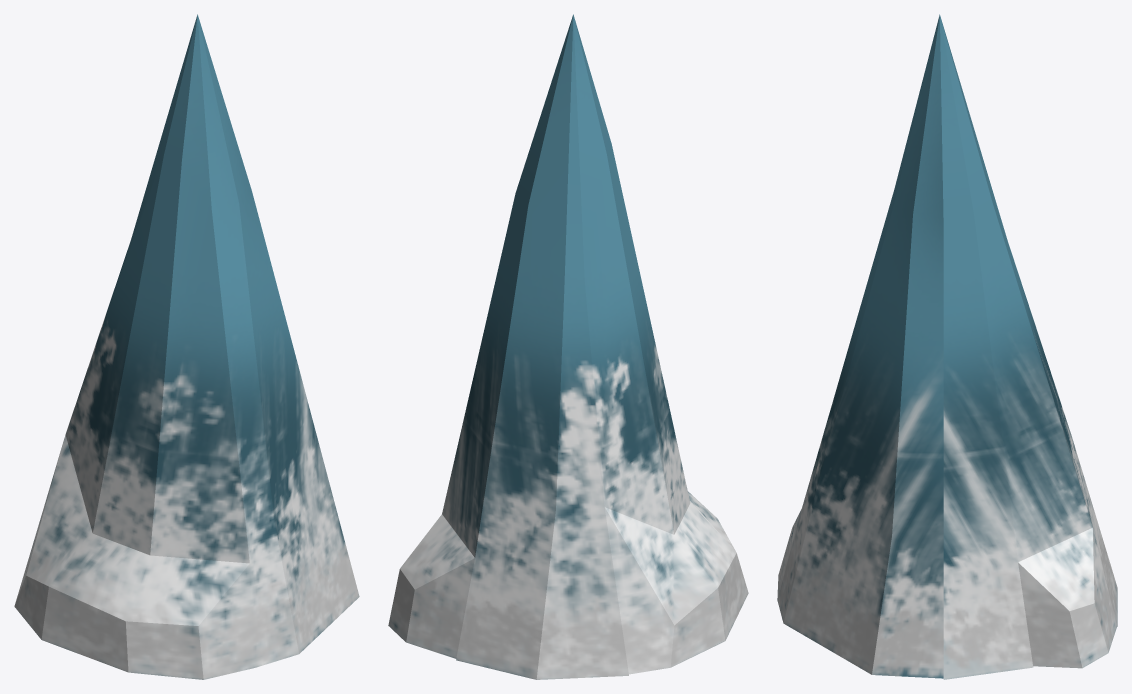
Rendered from ms_iceShape05.fbx.
The picture shows the model from 3 angles, left to right: view 1: azimuth 30°, elevation 25°; view 2: azimuth 150°, elevation 25°; view 3: azimuth 270°, elevation 25°; orthographic projection.
Parts seen in each view (by area): view 1: polySurface1; view 2: polySurface1; view 3: polySurface1.
Part boxes in pixels (x1=…): polySurface1: x1=14, y1=14, x2=359, y2=679; polySurface1: x1=388, y1=14, x2=748, y2=679; polySurface1: x1=777, y1=14, x2=1117, y2=679.
Bounding box in the file's own units: 205 × 398 × 205.
